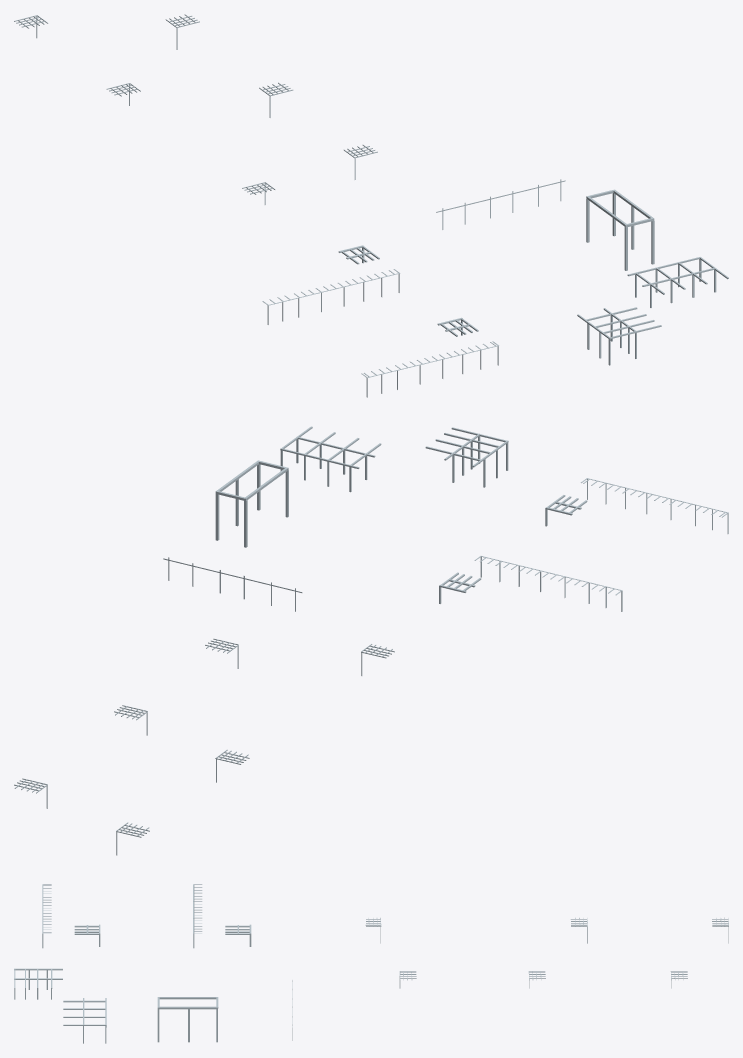
The model's file is SteelBars-transformed.glb.
The picture shows the model from 3 angles, top to bottom: view 1: azimuth 30°, elevation 25°; view 2: azimuth 150°, elevation 25°; view 3: azimuth 270°, elevation 25°; orthographic projection. The views are drawn at different scales.
Parts seen in each view (by area): view 1: Cube.396, Cube.343, Cube.612, Cube.185, Cube.269; view 2: Cube.396, Cube.612, Cube.343, Cube.269; view 3: Cube.396, Cube.612, Cube.343, Cube.269, Cube.185, Cube.002.
Part boxes in pixels (box(x1,y1,x2,y2)): Cube.396: box(586, 189, 654, 270); Cube.343: box(577, 307, 661, 365); Cube.612: box(627, 257, 728, 307); Cube.185: box(361, 341, 498, 397); Cube.269: box(262, 269, 400, 324); Cube.396: box(215, 460, 288, 547); Cube.612: box(280, 426, 381, 492); Cube.343: box(425, 427, 508, 487); Cube.269: box(474, 556, 622, 611); Cube.396: box(157, 997, 218, 1042); Cube.612: box(63, 998, 106, 1043); Cube.343: box(14, 968, 62, 999); Cube.269: box(193, 884, 202, 948); Cube.185: box(42, 884, 51, 948); Cube.002: box(225, 924, 251, 946).
Size of the model in its own units: 1803 by 212 by 3900.
